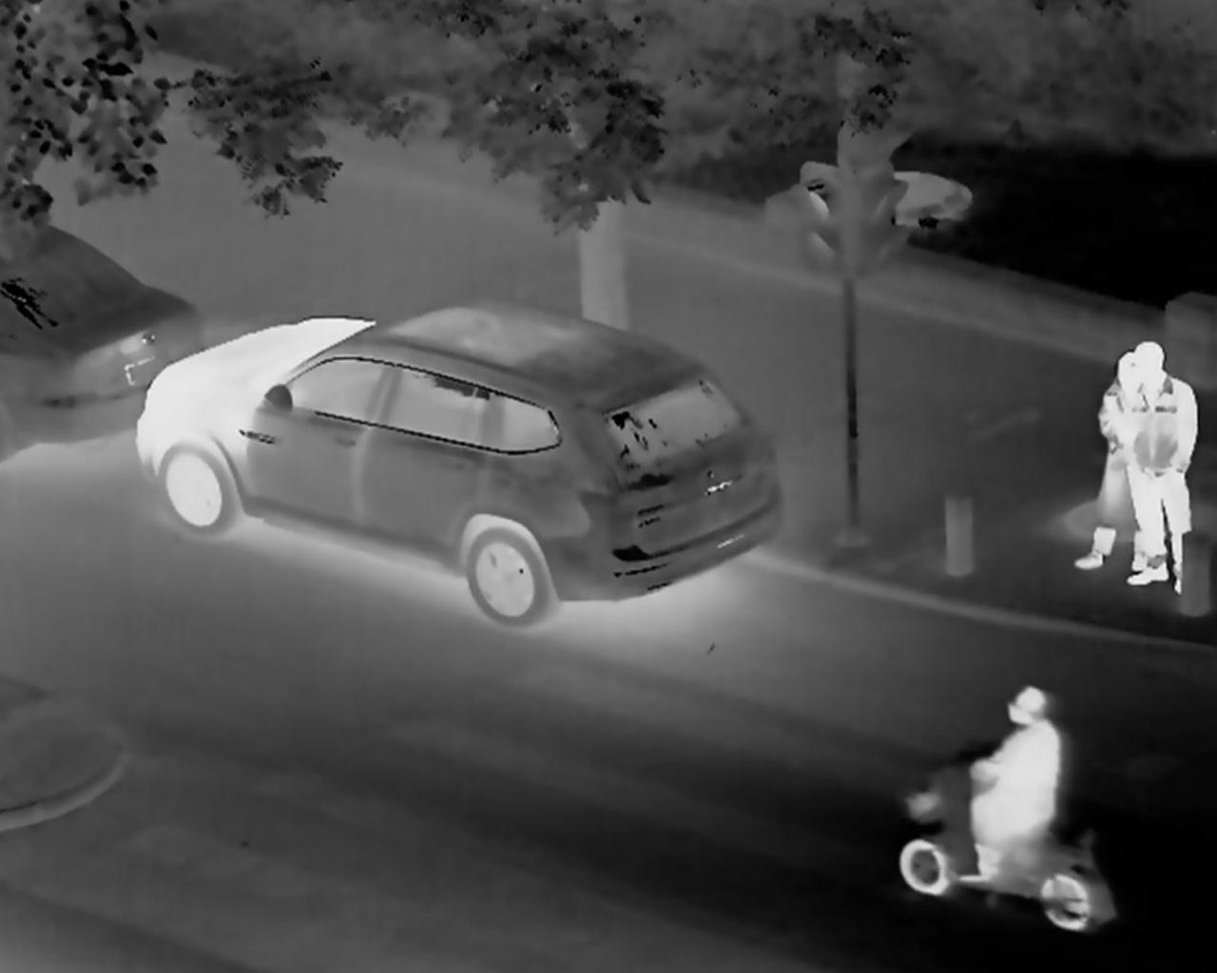person: (979, 688, 1074, 923), (1143, 337, 1210, 615), (1091, 346, 1135, 599)
